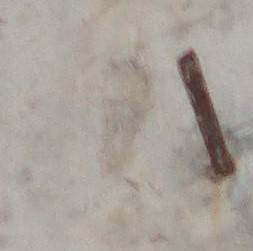Exposed reinforcement: (175, 48, 235, 176)
